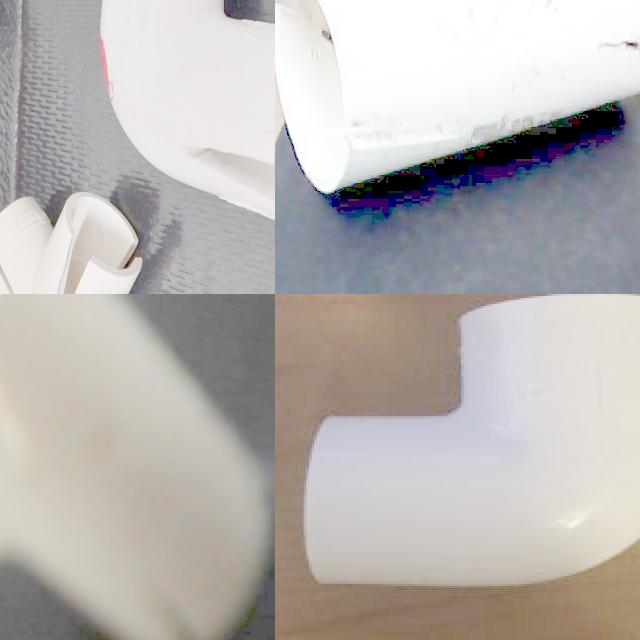Defective: (334, 102, 556, 194), (124, 563, 215, 640), (581, 0, 640, 117), (0, 294, 20, 487), (275, 0, 352, 49), (25, 112, 98, 159)
L Joint: (301, 294, 640, 590), (79, 0, 228, 177), (0, 94, 96, 285)
